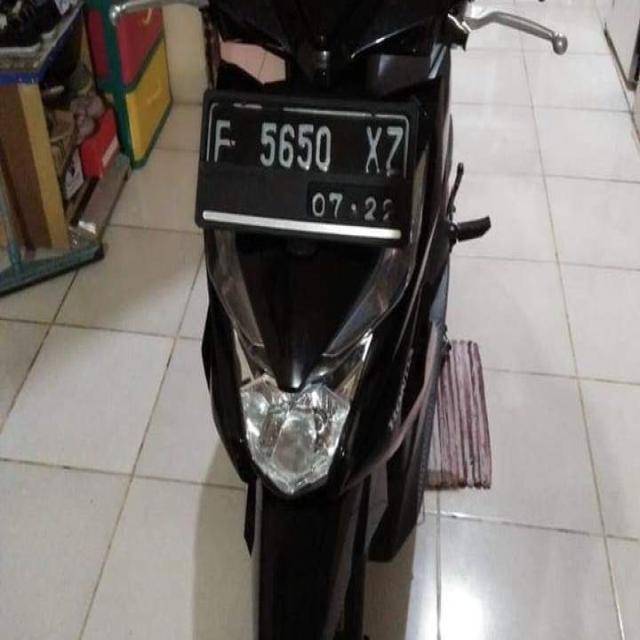plate: (204, 85, 410, 238)
